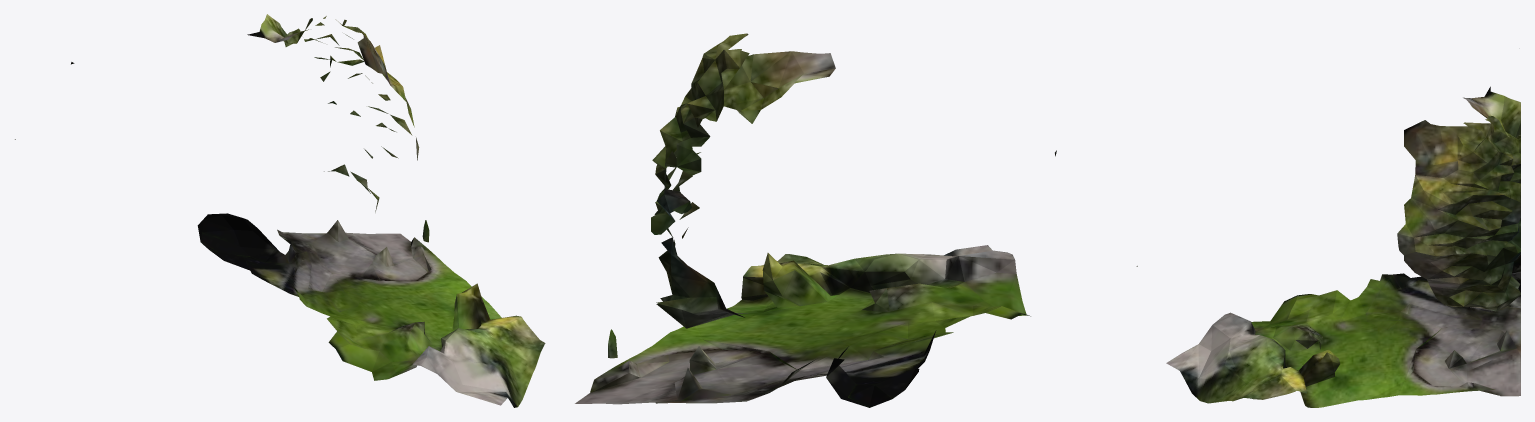
3 renders of one model, left to right at view 1: azimuth 30°, elevation 25°; view 2: azimuth 150°, elevation 25°; view 3: azimuth 270°, elevation 25°, orthographic. The views are drawn at different scales.
Size of the model in its own units: 21.32 by 15.03 by 18.34.
Materials: 1 (1 with a texture image).
